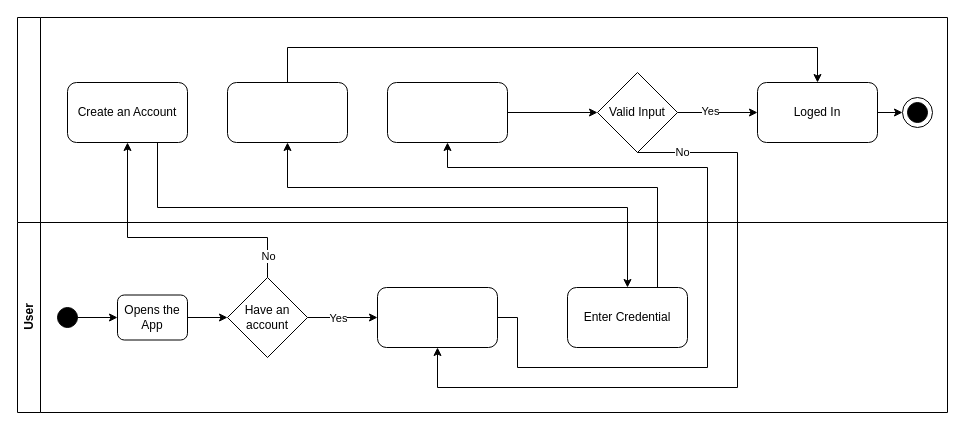
Image size: 965x430. Some labels were removed from this diagram. The box of each missing label's shape, as (x1, y1, x2, y2) in pixels:
Login Prompt Screen: (376, 286, 498, 348)
Save Data: (226, 82, 348, 142)
System: (16, 16, 948, 222)
Validation: (386, 82, 508, 142)
